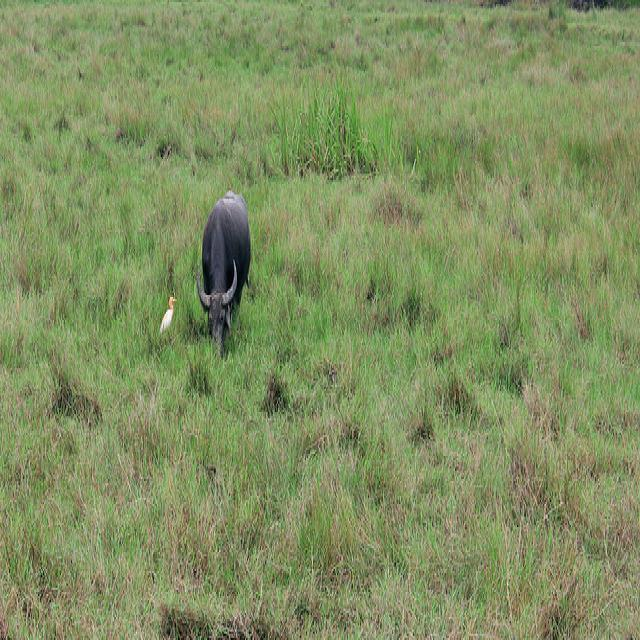cow: (195, 184, 249, 358)
